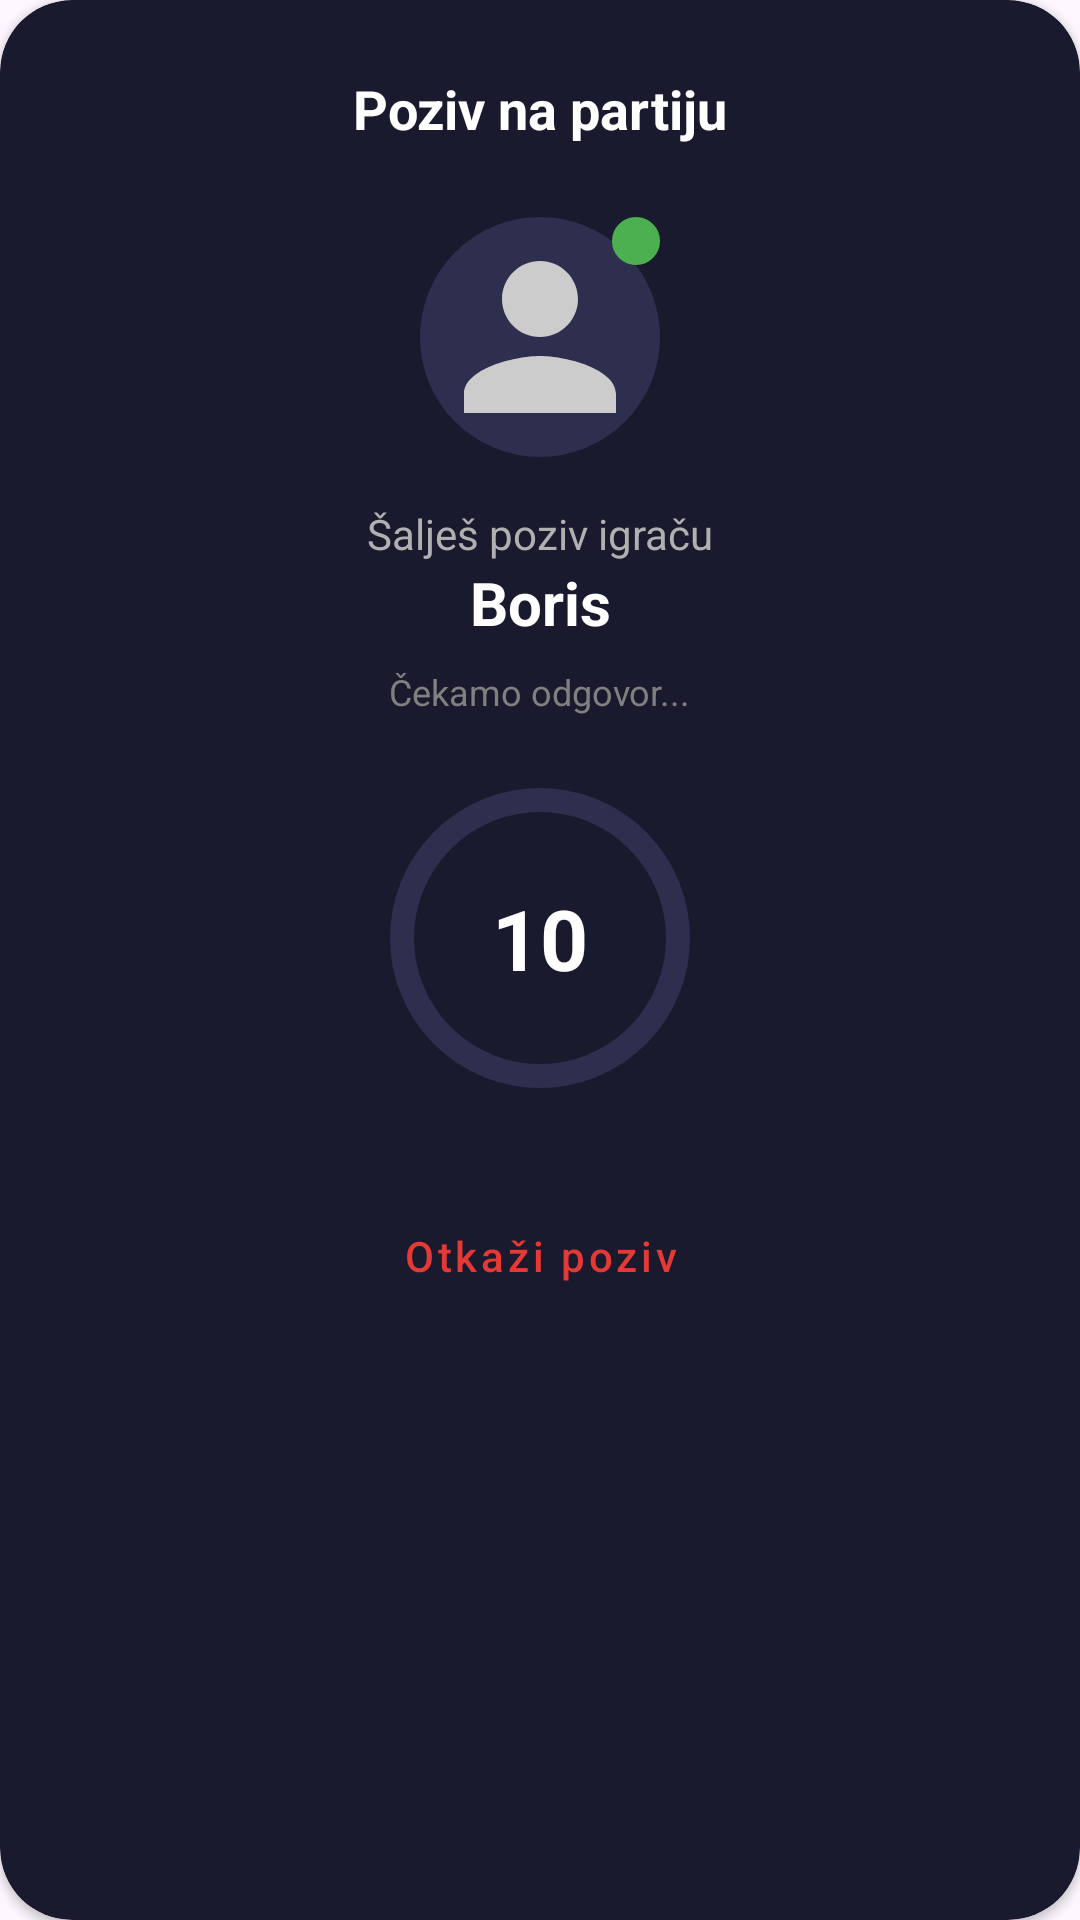

Icons on this 1080x1920 Android screen, each with its box as (x1, y1, x2, y2):
profile: (420, 217, 660, 457)
